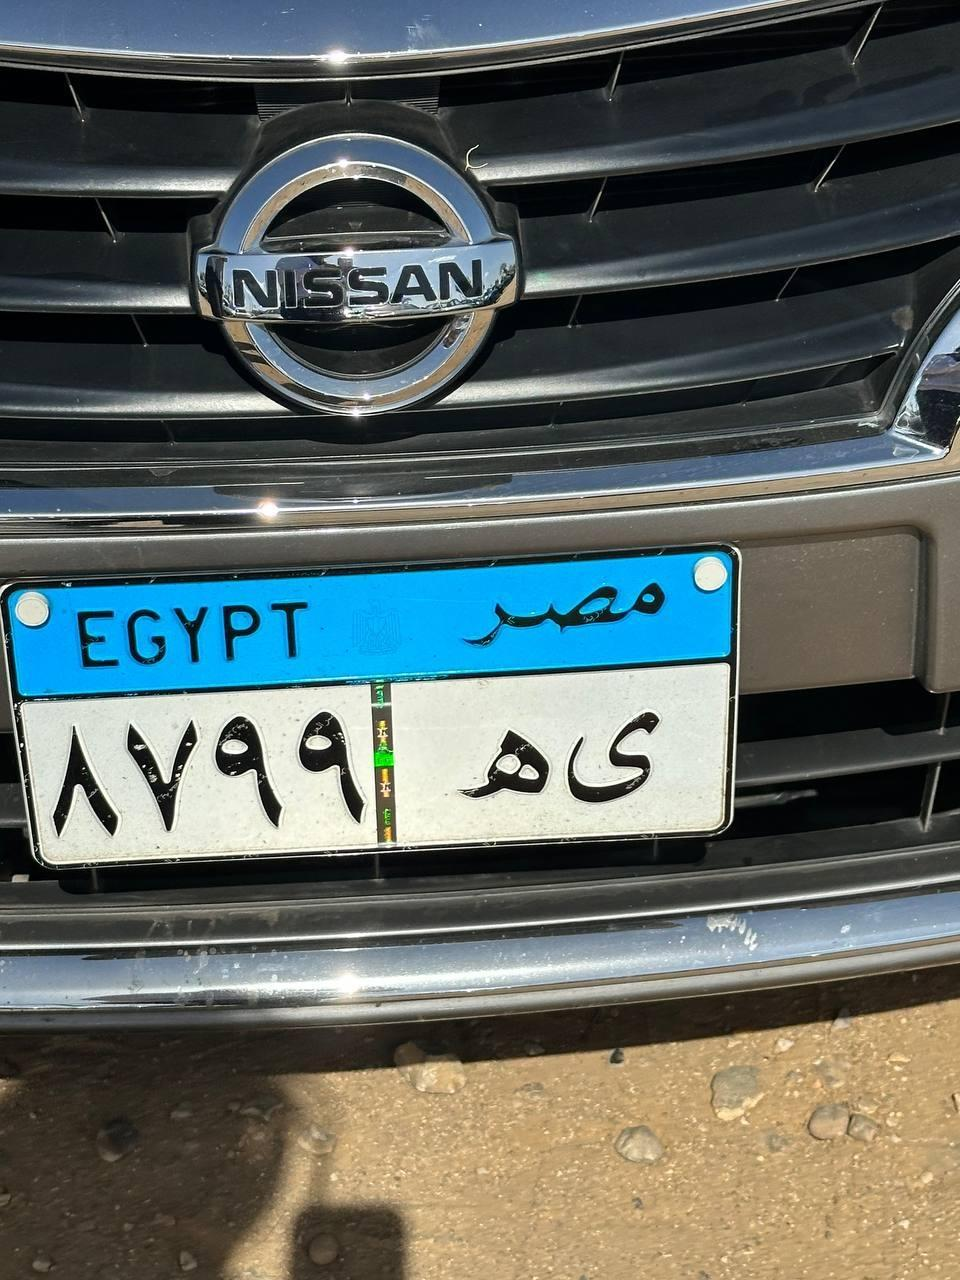9: (292, 714, 370, 838), (208, 713, 282, 840)
Heeh: (460, 708, 555, 824)
License Plate: (1, 541, 742, 874)
Yeeh: (565, 696, 667, 806)
